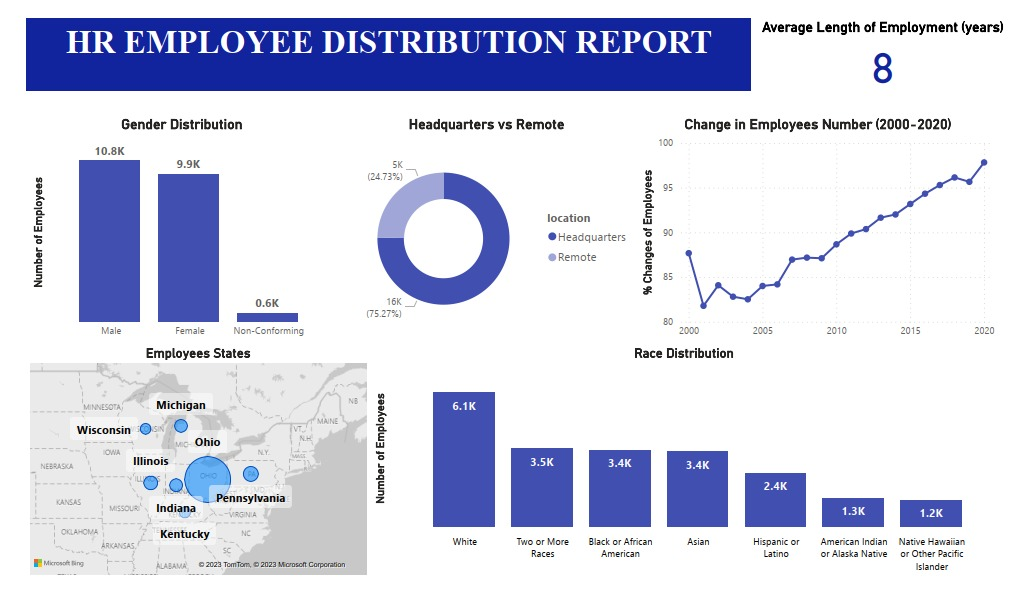

The dashboard page shown, as its layout file describes it:
{"tool":"powerbi","page":{"name":"Page 1","canvas":[1280,720],"ordinal":0},"visuals":[{"type":"textbox","box":[10.1,0,933.1,92.2],"z":0},{"type":"textbox","box":[10,290,280,280],"z":1000},{"type":"card","title":"Average Length of Employment (years)","fields":{"Values":["Sum(avg_length_employment.avg_length_employment)"]},"box":[943.2,0,337,92.2],"z":2000},{"type":"columnChart","title":"Gender Distribution","fields":{"Y":["Sum(gender.count)"],"Category":["gender.gender"]},"box":[11.5,125.3,396,295.2],"z":3000},{"type":"donutChart","title":"Headquarters vs Remote","fields":{"Y":["Sum(location.count)"],"Category":["location.location"]},"box":[407.5,125.3,388.8,295.2],"z":4000},{"type":"lineChart","title":"Change in Employees Number (2000-2020)","fields":{"Category":["employee.year"],"Y":["Sum(employee.net_changes_percentage)"]},"box":[796.3,125.3,463.7,295.2],"z":5000},{"type":"map","title":"Employees States","fields":{"Size":["Sum(state.count)"],"Category":["state.location_state"]},"box":[10.1,420.5,442.1,299.5],"z":6000},{"type":"clusteredColumnChart","title":"Race Distribution","fields":{"Category":["race.race"],"Y":["Sum(race.count)"]},"box":[452.2,420.5,807.8,299.5],"z":7000}]}

Visuals, with their boxes in screenshot pixels (x1, y1, x2, y2), scaled from the page's 1280x720 canvas onto the 1032x597 screenshot:
textbox: [8,0,760,76]
textbox: [8,240,234,473]
"Average Length of Employment (years)" card: [760,0,1031,76]
"Gender Distribution" columnChart: [9,104,329,349]
"Headquarters vs Remote" donutChart: [329,104,642,349]
"Change in Employees Number (2000-2020)" lineChart: [642,104,1016,349]
"Employees States" map: [8,349,365,596]
"Race Distribution" clusteredColumnChart: [365,349,1016,596]
